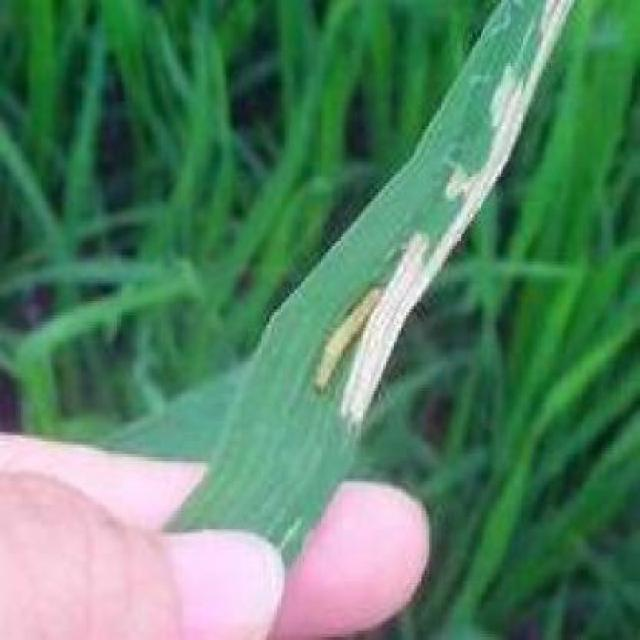leaf-folder: (292, 273, 388, 413)
